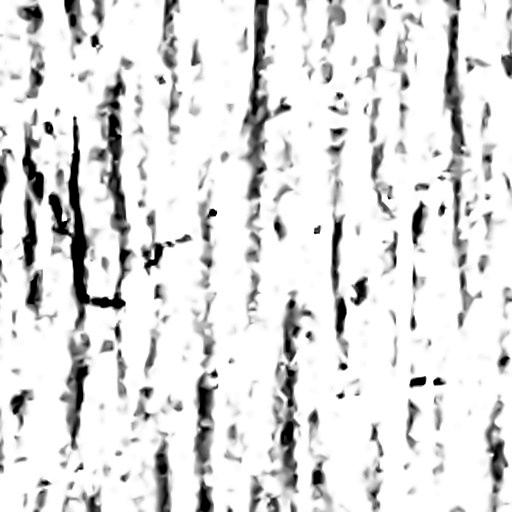egg: (48, 193, 67, 233)
